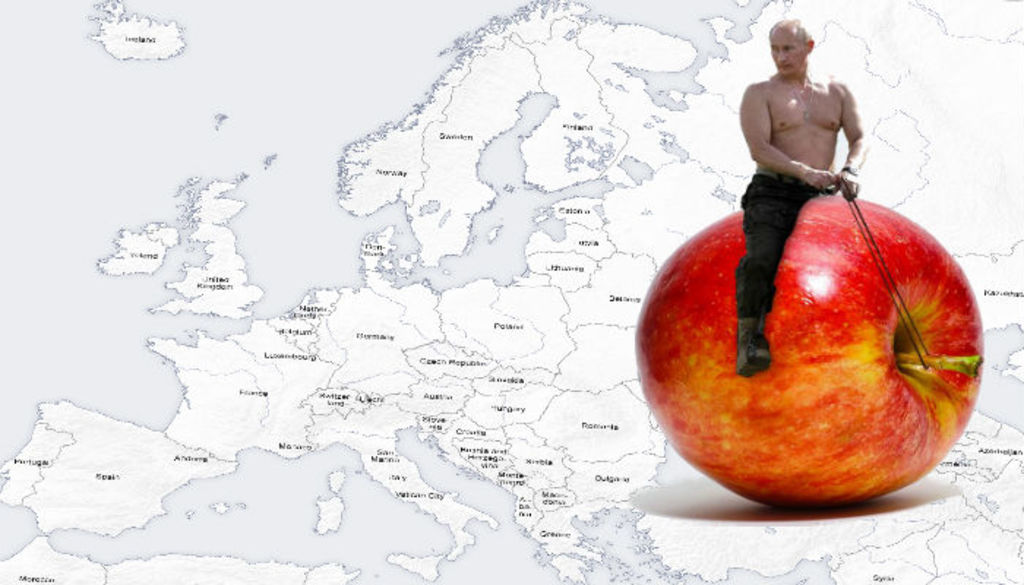Apple: (646, 155, 978, 525)
